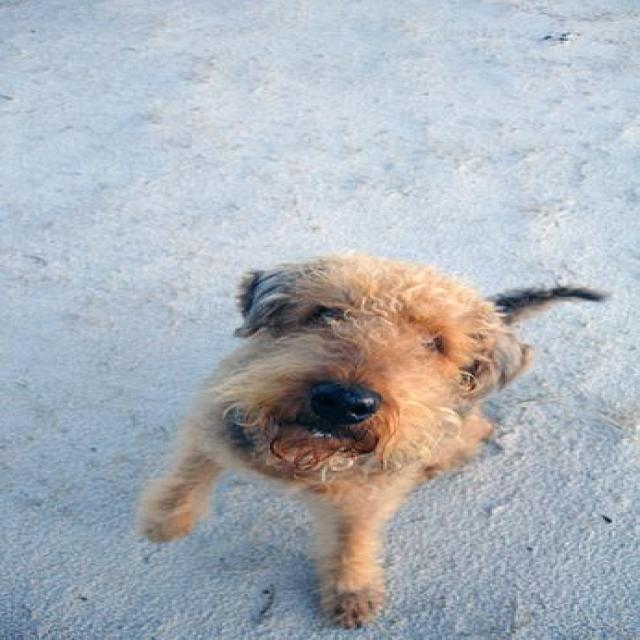airedale: (131, 251, 618, 630)
